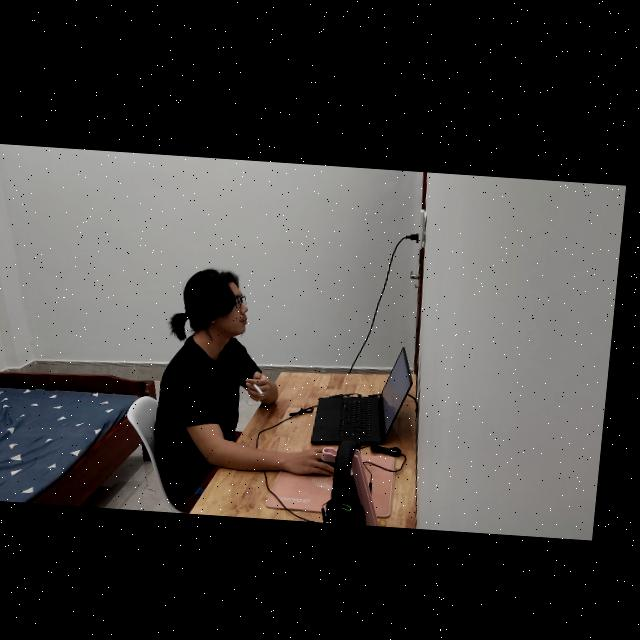cigarette: (260, 380, 272, 391)
